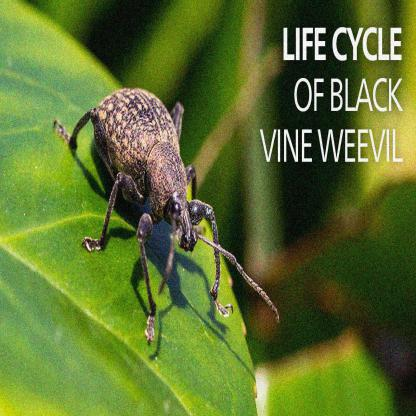ash weevil: (68, 87, 220, 350)
